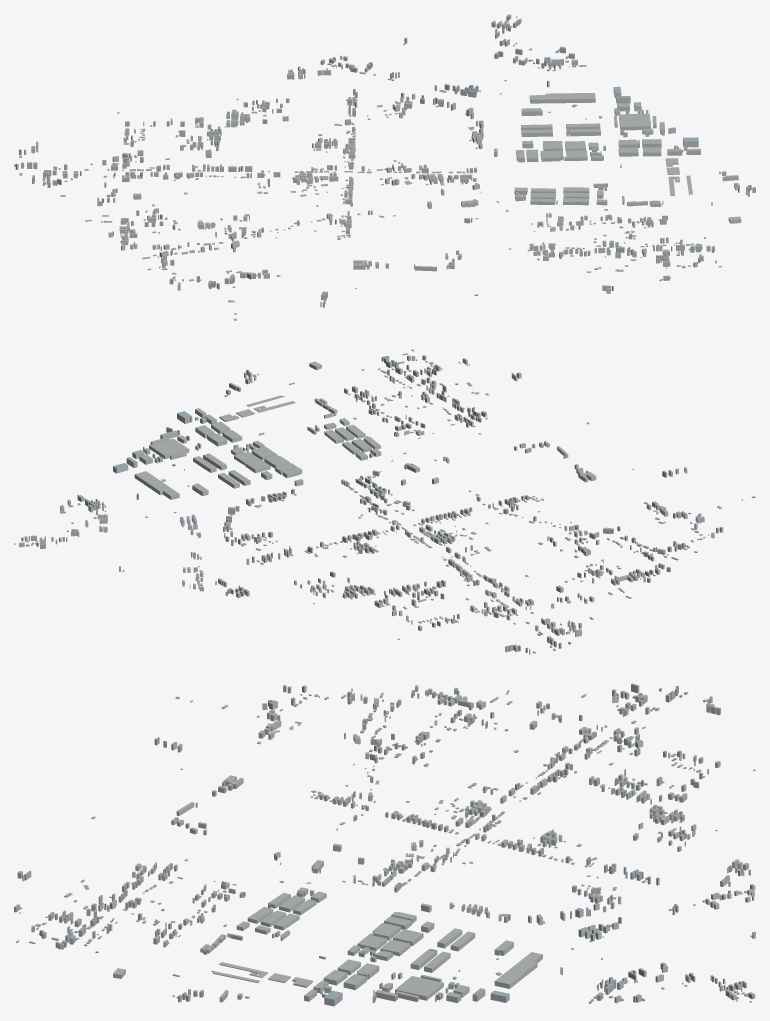
3 renders of one model, top to bottom at view 1: azimuth 30°, elevation 25°; view 2: azimuth 150°, elevation 25°; view 3: azimuth 270°, elevation 25°, orthographic. The views are drawn at different scales.
Visible parts, largest first — view 1: 上海全域建筑分块 · mapped building neighborhood; view 2: 上海全域建筑分块 · mapped building neighborhood; view 3: 上海全域建筑分块 · mapped building neighborhood.
Boxes of the visible parts, left/top/right/bottom form: 上海全域建筑分块 · mapped building neighborhood: left=14, top=14, right=755, bottom=320; 上海全域建筑分块 · mapped building neighborhood: left=14, top=349, right=755, bottom=654; 上海全域建筑分块 · mapped building neighborhood: left=14, top=683, right=755, bottom=1006.
Size of the model in its own units: 2117 by 22.29 by 2095.
